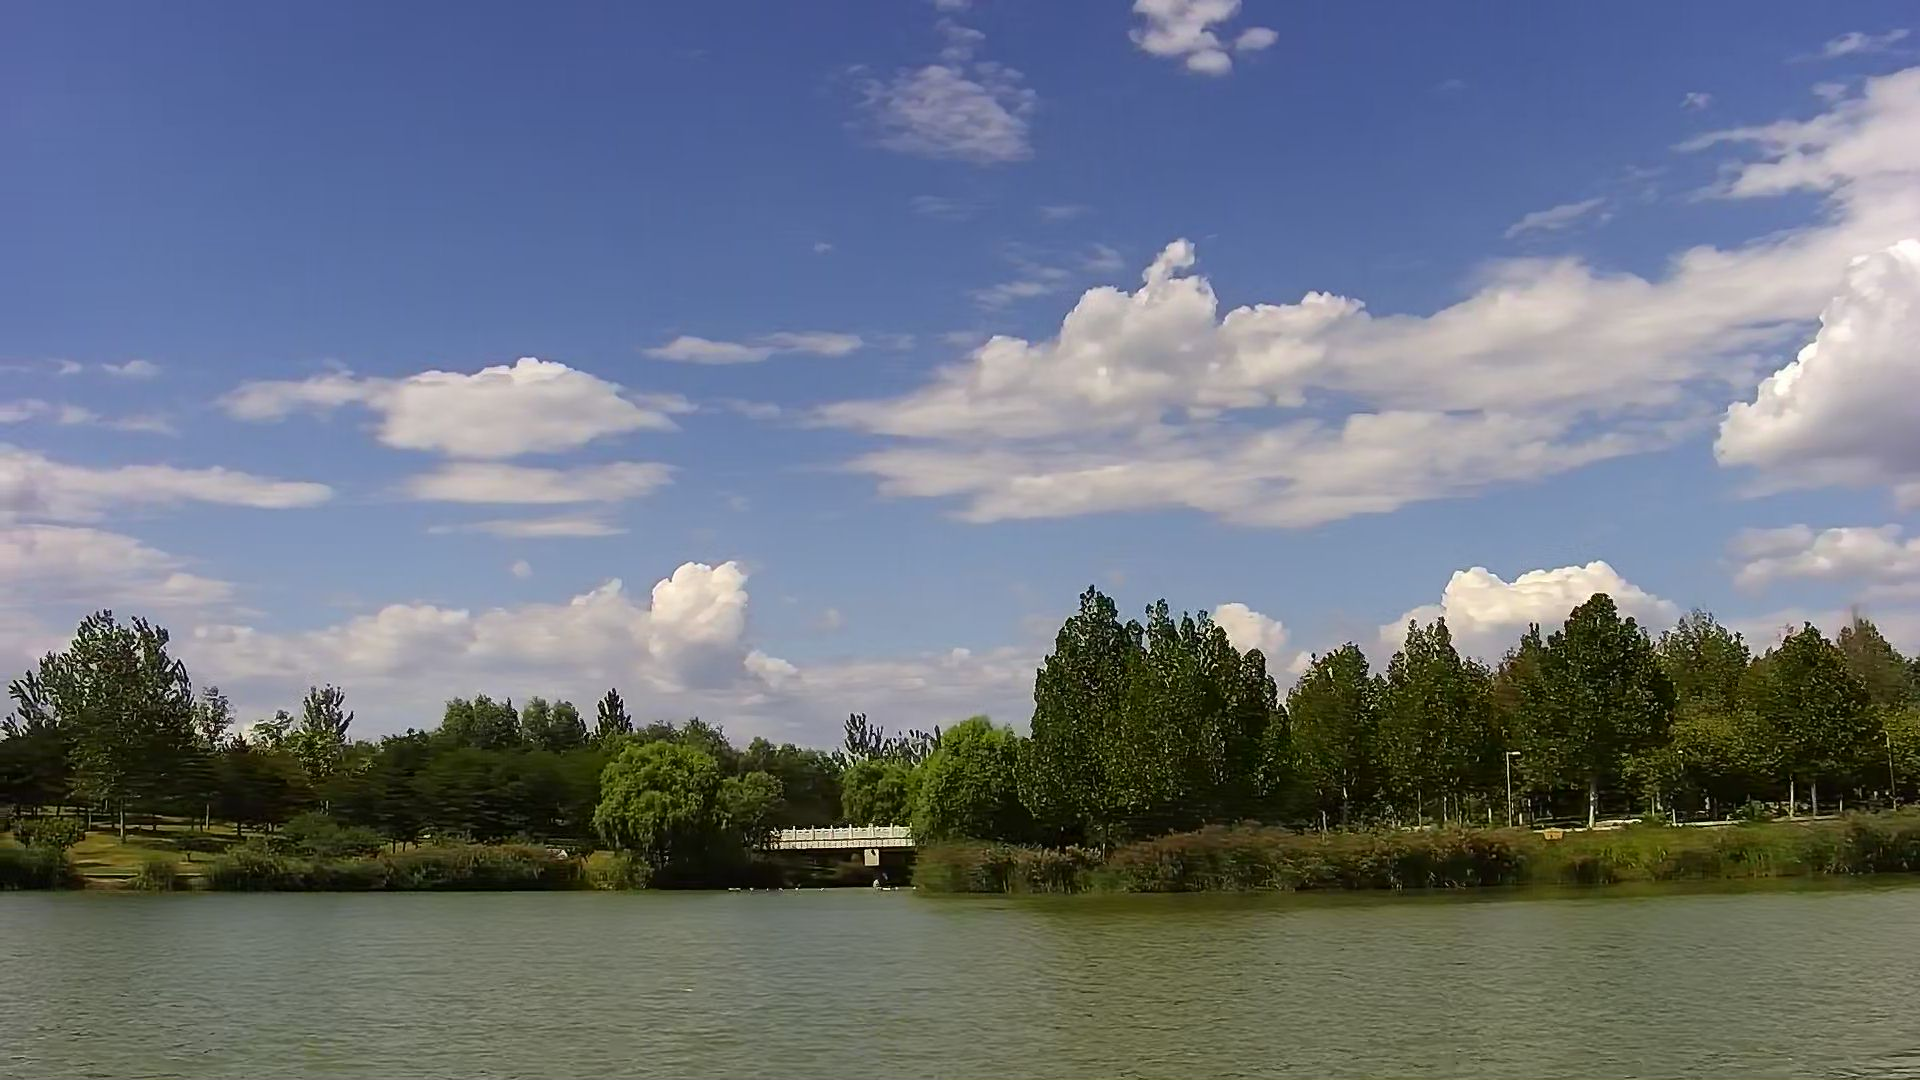bridge: (777, 825, 916, 885)
